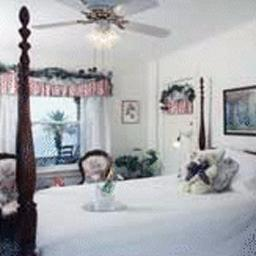Cama: (24, 147, 249, 250)
Puerta: (163, 80, 194, 168)
Ventana: (7, 81, 102, 161)
